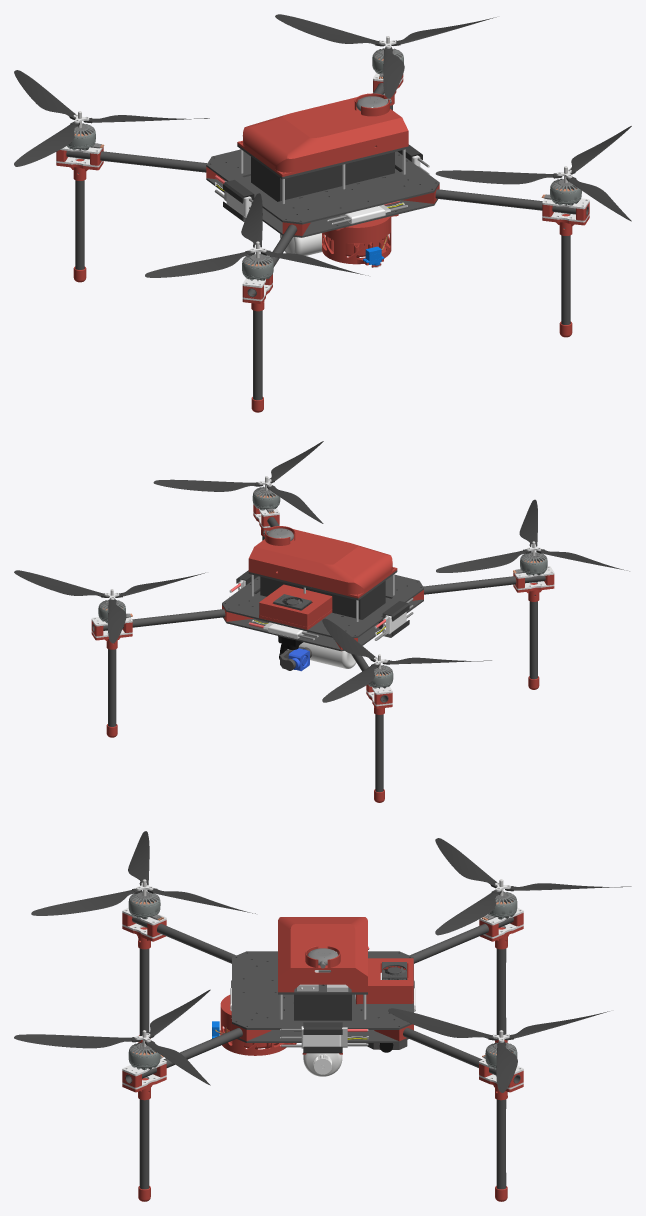
File: storm-final-optimized-v2.glb
3 views of the same model, one above another, from view 1: azimuth 30°, elevation 25°; view 2: azimuth 150°, elevation 25°; view 3: azimuth 270°, elevation 25° (orthographic). The views are drawn at different scales.
Visible parts, largest first — view 1: Body2.002, Body1.010, Body1.011, Body1.089, Body1.019, Body1, Body1.047, Body1.049, Body1.091, Body1.102, Body1.095, Body1.099 (+14 smaller); view 2: Body2.002, Body1.010, Body1.113, Body1.011, Body1.019, Body1, Body1.002, Body1.092, Body1.048, Body1.094, Body1.104, Body1.081 (+10 smaller); view 3: Body1.010, Body2.002, Body1.019, Body1.113, Body1.011, Body1, Body1.090, Body1.096, Body1.103, Body1.089, Body1.100, Body1.023 (+20 smaller).
Boxes of the visible parts, x1,y1,x2,y2 form: Body2.002: [237, 100, 376, 176]; Body1.010: [206, 149, 439, 224]; Body1.011: [251, 152, 394, 201]; Body1.089: [322, 214, 398, 265]; Body1.019: [343, 93, 408, 157]; Body1: [206, 168, 437, 237]; Body1.047: [435, 189, 588, 215]; Body1.049: [66, 150, 206, 172]; Body1.091: [435, 170, 562, 184]; Body1.102: [145, 250, 255, 277]; Body1.095: [275, 14, 384, 46]; Body1.099: [14, 122, 79, 166]; Body2.002: [276, 532, 397, 598]; Body1.010: [222, 574, 423, 638]; Body1.113: [259, 584, 332, 626]; Body1.011: [260, 576, 385, 619]; Body1.019: [248, 526, 305, 581]; Body1: [223, 591, 423, 651]; Body1.002: [423, 575, 545, 594]; Body1.092: [153, 479, 263, 491]; Body1.048: [92, 609, 225, 631]; Body1.094: [14, 570, 109, 597]; Body1.104: [436, 549, 531, 572]; Body1.081: [299, 642, 356, 668]; Body1.010: [232, 951, 413, 1029]; Body2.002: [278, 917, 367, 959]; Body1.019: [278, 946, 367, 992]; Body1.113: [356, 958, 413, 1000]; Body1.011: [294, 994, 351, 1031]; Body1: [237, 994, 408, 1042]; Body1.090: [14, 1034, 140, 1048]; Body1.096: [388, 1008, 497, 1040]; Body1.103: [31, 888, 141, 915]; Body1.089: [219, 995, 296, 1055]; Body1.100: [435, 890, 501, 935]; Body1.023: [139, 1099, 149, 1189].
Bounding box in the file's own units: 0.9681 × 0.3394 × 0.9681.
